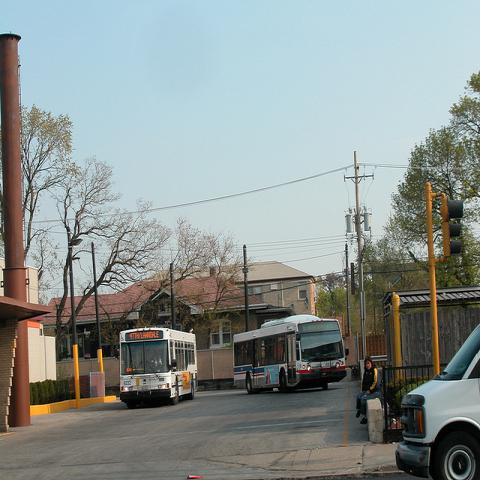bus: (233, 315, 346, 392), (120, 328, 198, 406)
truck: (394, 321, 479, 479)
